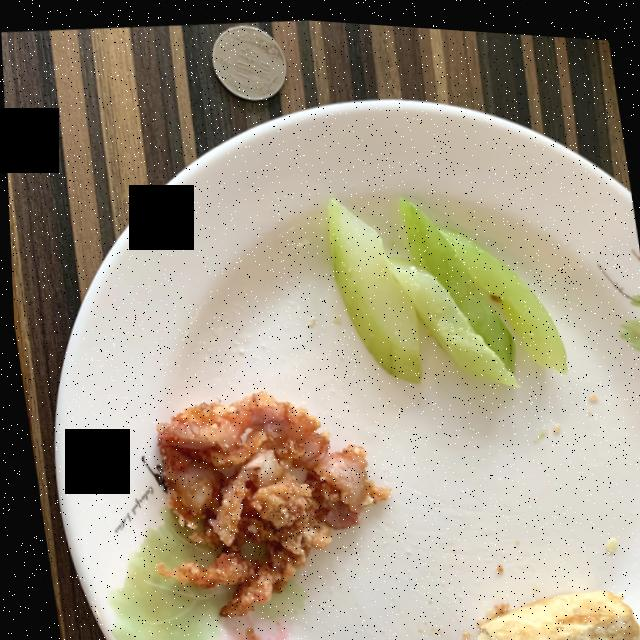coin: (210, 22, 285, 96)
red grilled pork: (150, 388, 383, 614)
